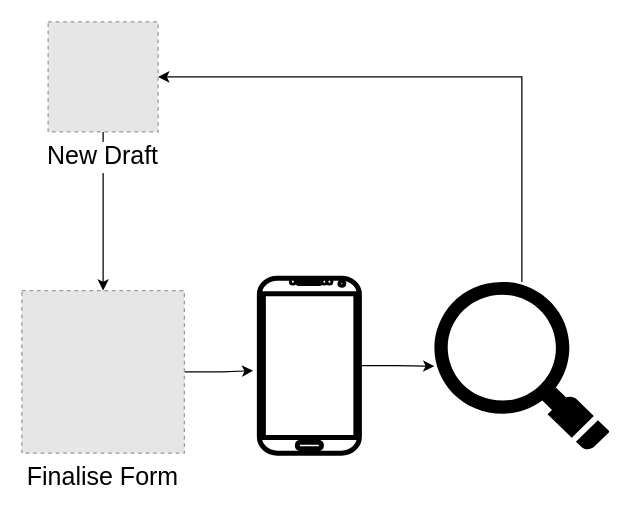
Image size: 638x514. Some labels were removed from this diagram. Grey dashed boxes stand in for pictures. The centre of each missing label's shape, as x and y in pixels:
Collect Data: (308,365)
Examine Results: (521,365)
